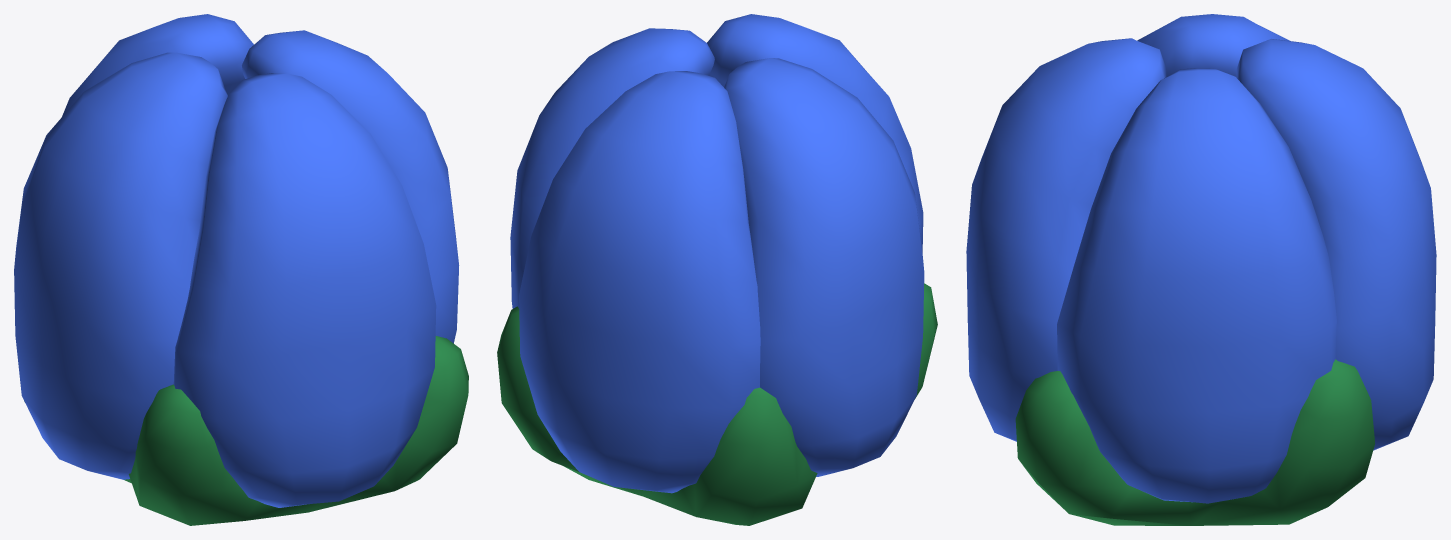
File: FlowerHead3.fbx
3 views of the same model, side by side, from view 1: azimuth 30°, elevation 25°; view 2: azimuth 150°, elevation 25°; view 3: azimuth 270°, elevation 25° (orthographic). The views are drawn at different scales.
Parts seen in each view (by area): view 1: FlowerHead.Blueee; view 2: FlowerHead.Blueee; view 3: FlowerHead.Blueee.
Part boxes in pixels (x1=…): FlowerHead.Blueee: x1=14, y1=14, x2=468, y2=525; FlowerHead.Blueee: x1=497, y1=14, x2=937, y2=525; FlowerHead.Blueee: x1=966, y1=14, x2=1436, y2=525.
Bounding box in the file's own units: 223 × 250 × 238.
